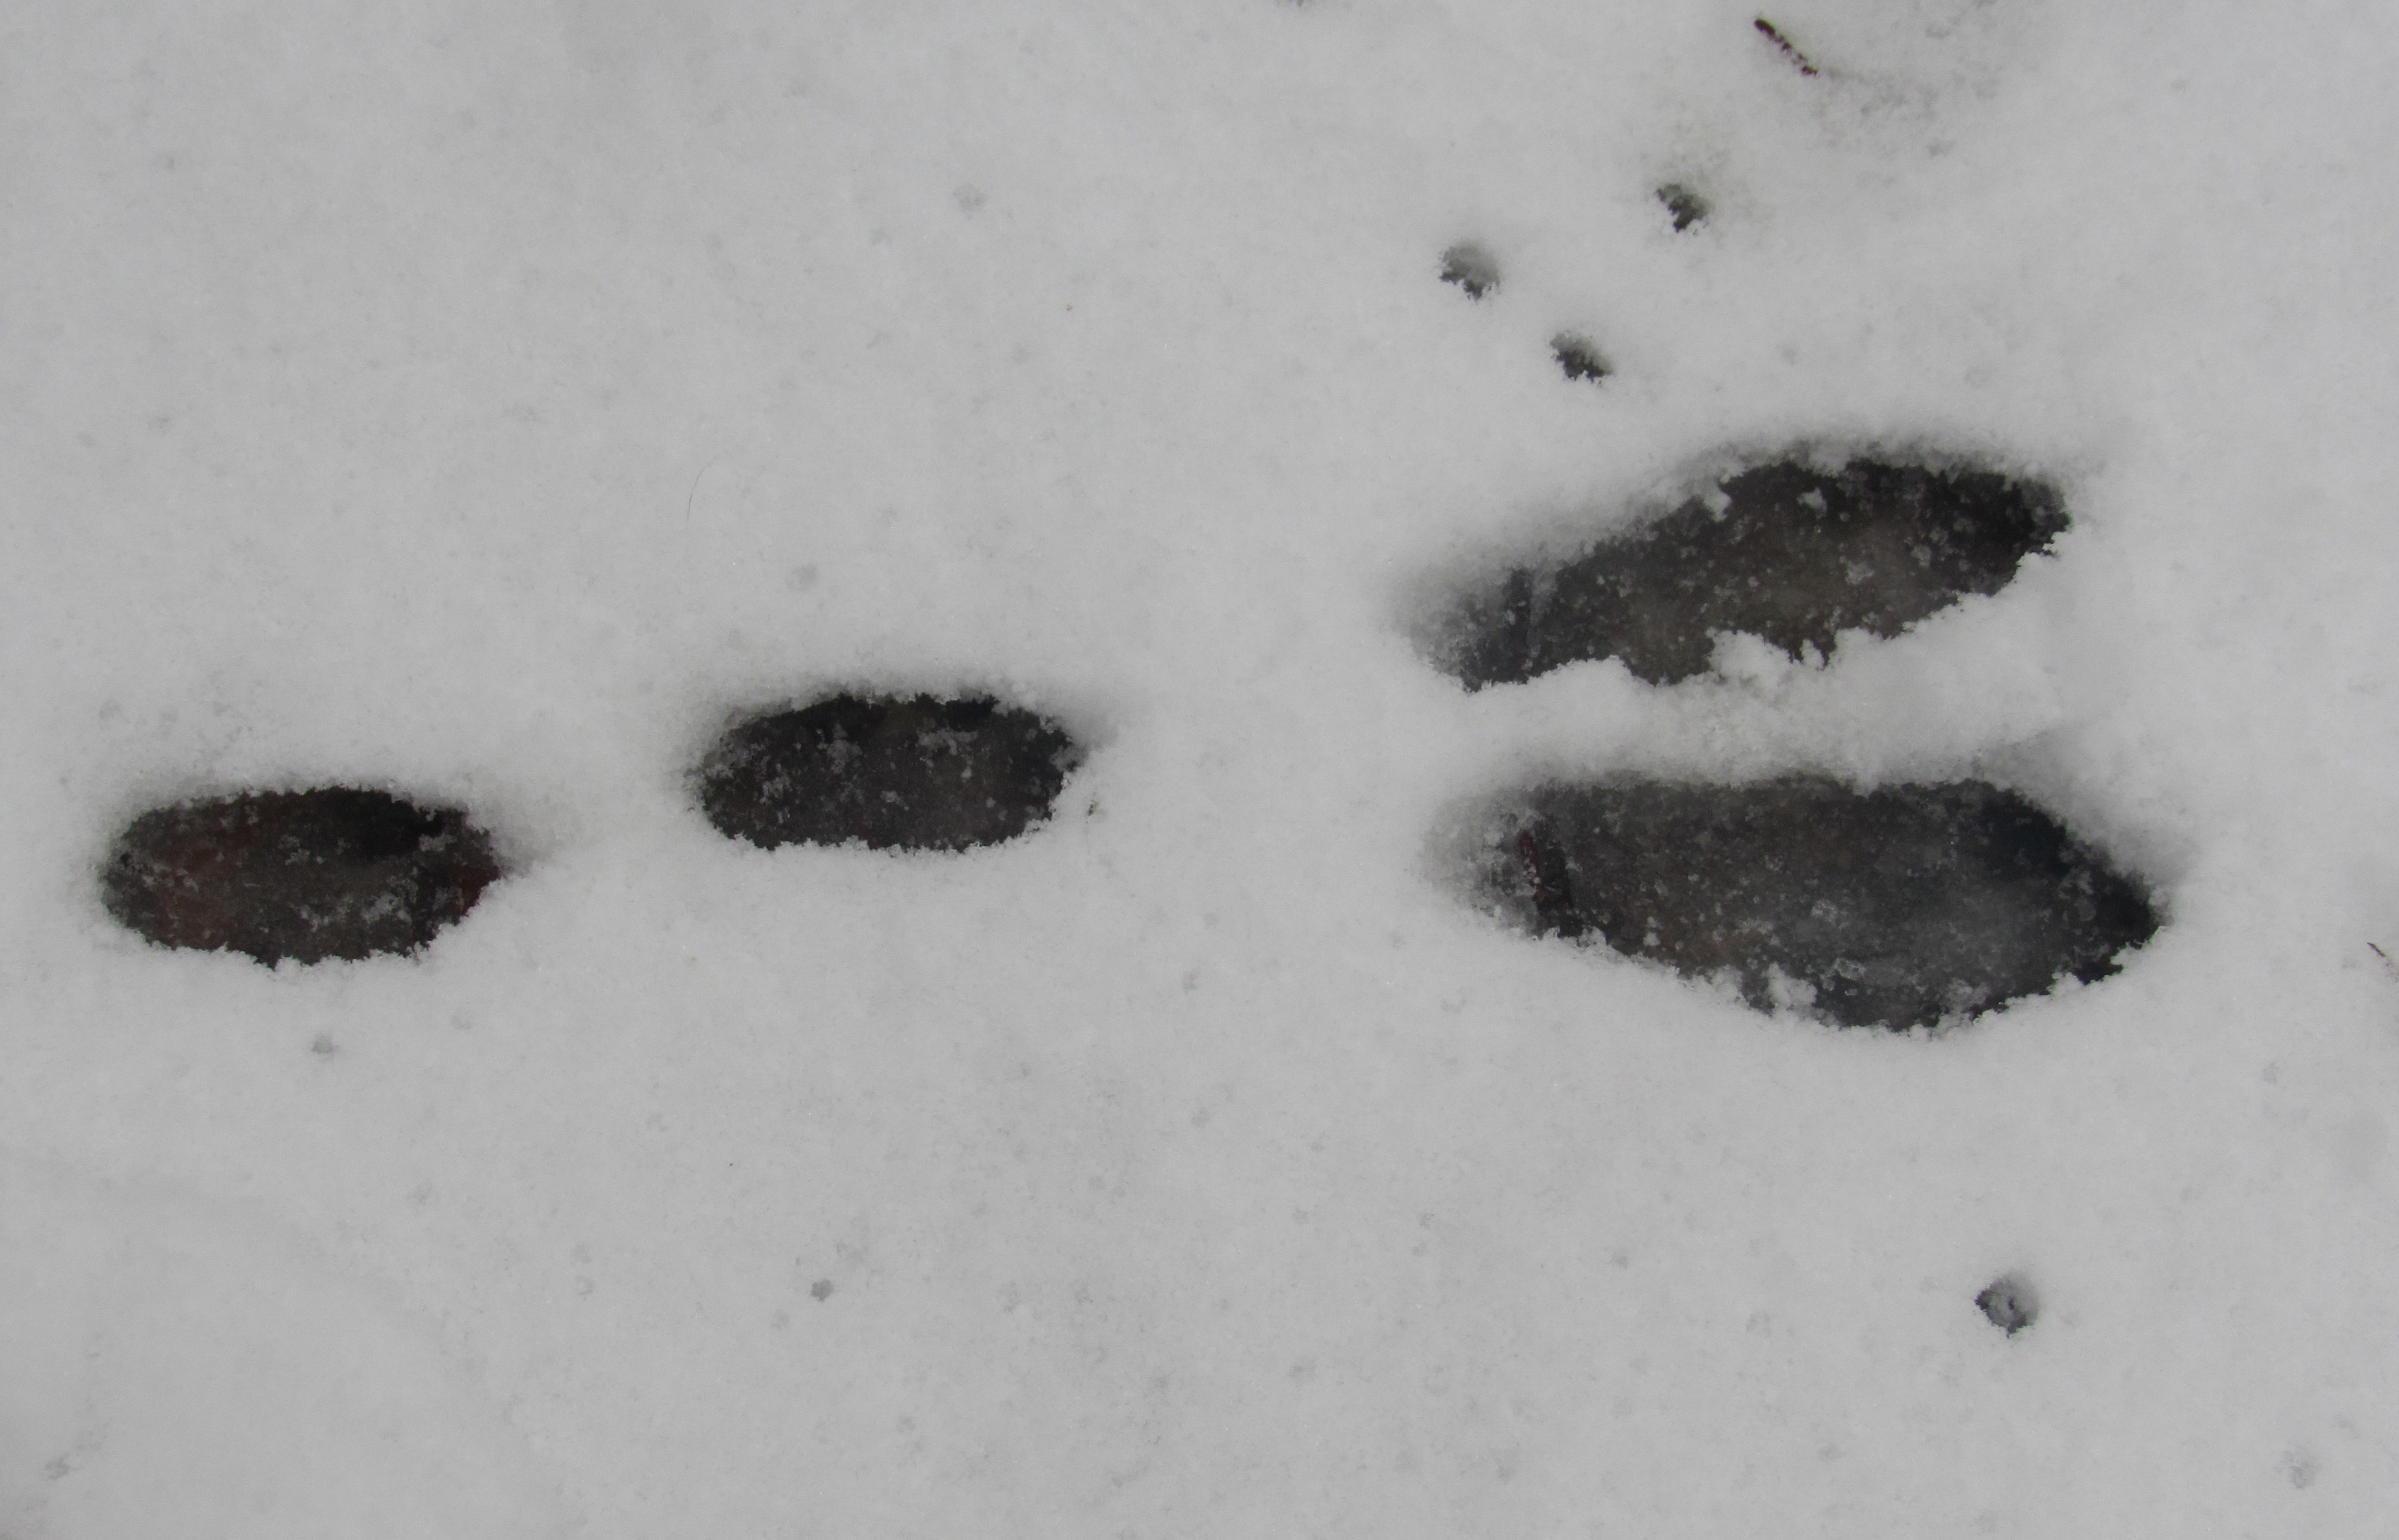rabbit: (51, 357, 2299, 1129)
